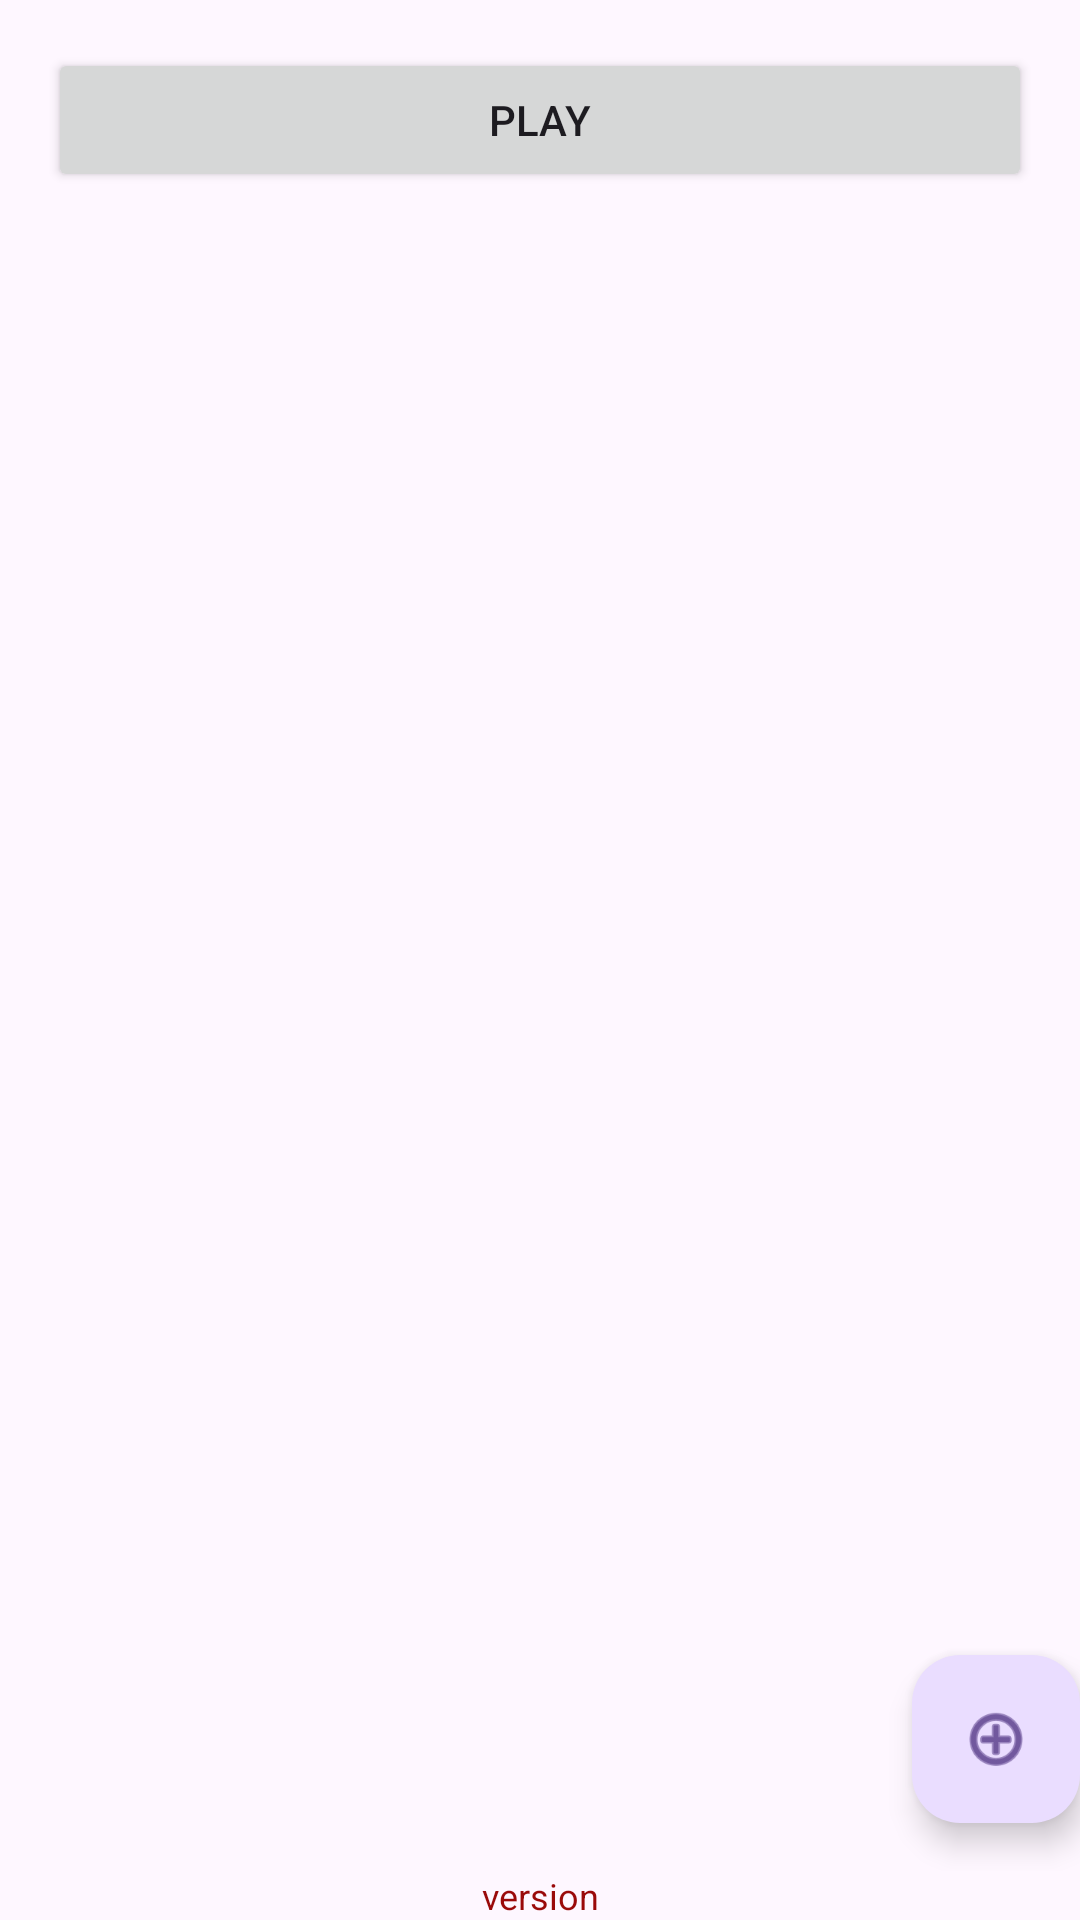

Screen size 1080×1920. Icon name, then its center in pixels as point (x, y):
add: point (996, 1739)
